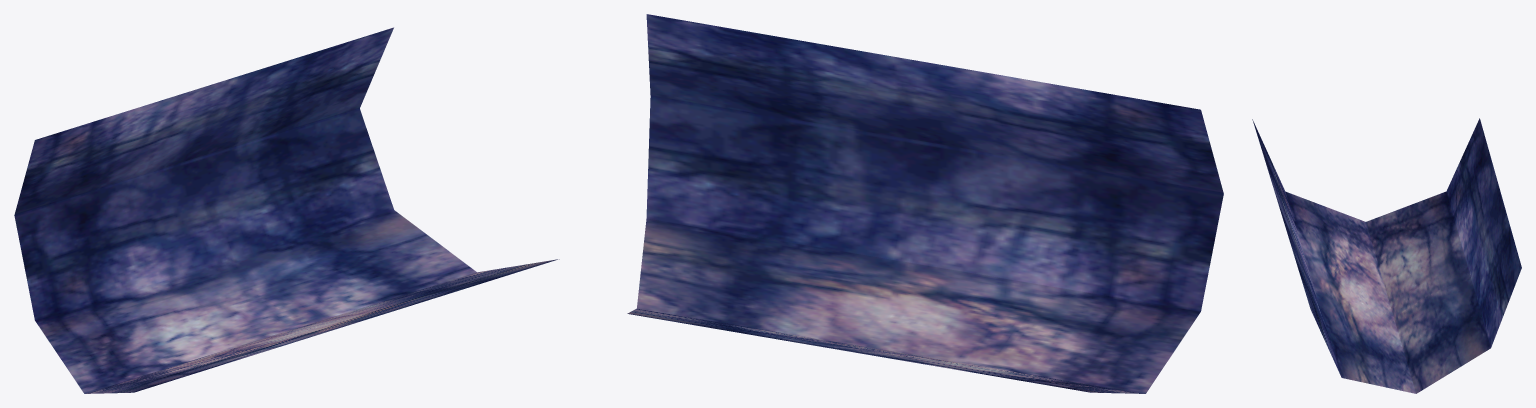
3 views of the same model, side by side, from view 1: azimuth 30°, elevation 25°; view 2: azimuth 150°, elevation 25°; view 3: azimuth 270°, elevation 25° (orthographic). The views are drawn at different scales.
Visible parts, largest first — view 1: 11; view 2: 11; view 3: 11.
Part boxes in pixels (x1,y1,x2,y2): 11: (14,27,559,393); 11: (627,14,1223,393); 11: (1252,118,1521,393).
Size of the model in its own units: 7240 by 3769 by 4359.
1 material, 1 textured.
